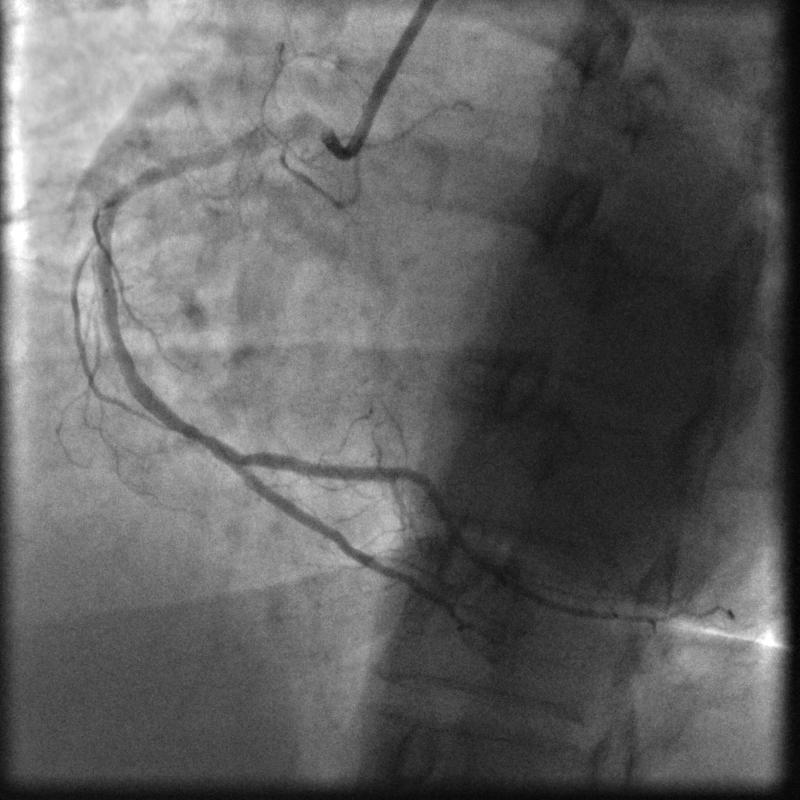Stenosis: (191, 413, 217, 458)
